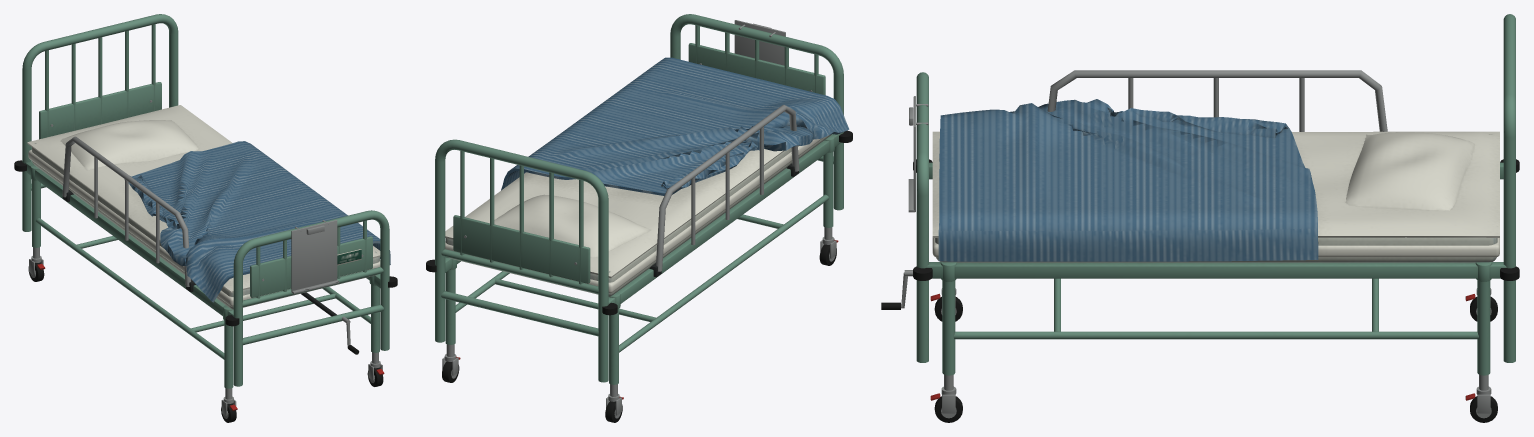
File: CTCC_LOC03_WardBedLived.fbx
The picture shows the model from 3 angles, left to right: view 1: azimuth 30°, elevation 25°; view 2: azimuth 150°, elevation 25°; view 3: azimuth 270°, elevation 25°; orthographic projection. The views are drawn at different scales.
Visible parts, largest first — view 1: CTCC_LOC03_WardBedLived_LOD0; view 2: CTCC_LOC03_WardBedLived_LOD0; view 3: CTCC_LOC03_WardBedLived_LOD0.
Part boxes in pixels (left/top/right/bottom): CTCC_LOC03_WardBedLived_LOD0: left=14, top=14, right=397, bottom=422; CTCC_LOC03_WardBedLived_LOD0: left=426, top=14, right=852, bottom=422; CTCC_LOC03_WardBedLived_LOD0: left=881, top=14, right=1519, bottom=422.
Size of what is drawn, in the model's own units: 0.9589 by 1.14 by 2.09.
